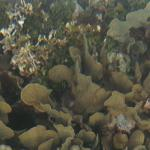alive: (3, 3, 147, 146)
